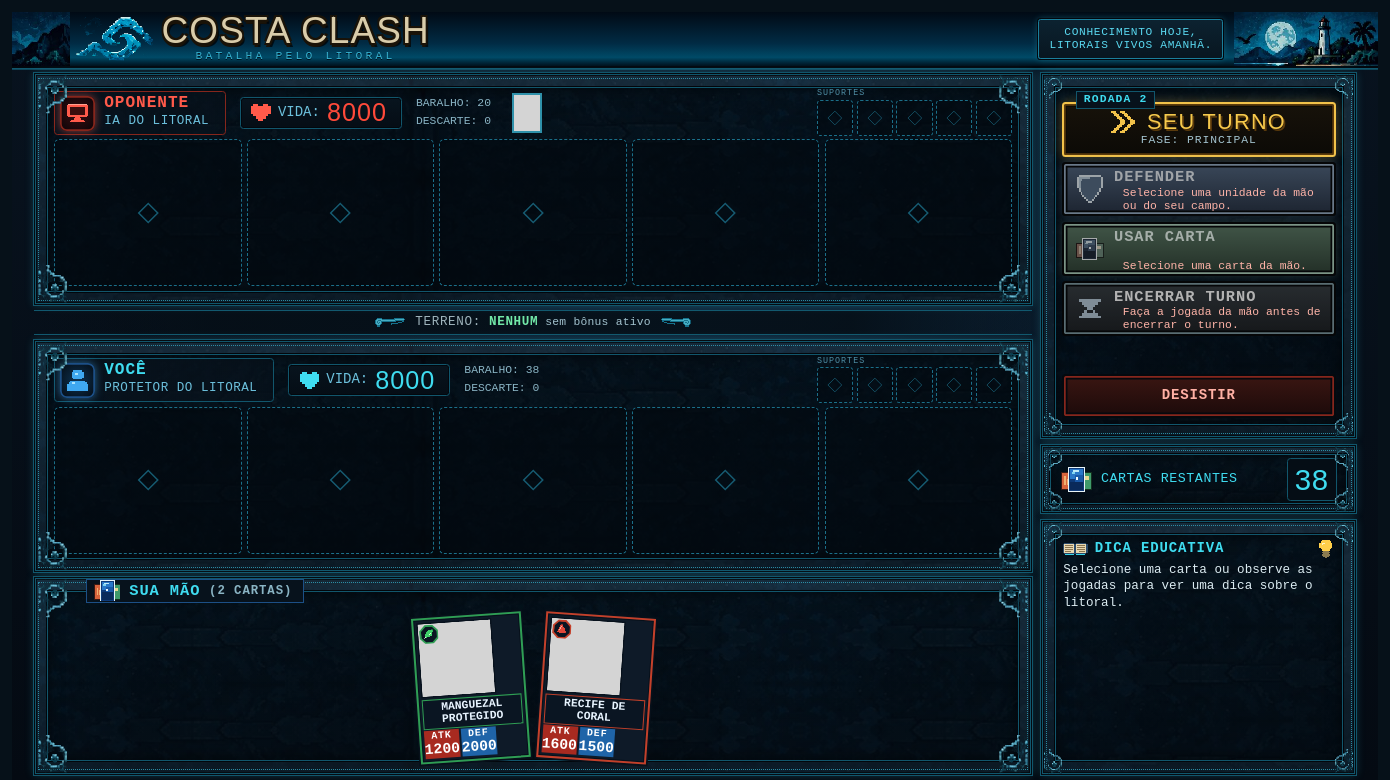
Test: mão em leque e inspeção ampliada › abre somente uma cópia visual no hover, mostra os detalhes completos e fecha ao sair
Hover over the button with aria-label "Mão 1:" at (471, 687), box [411,611,530,764]
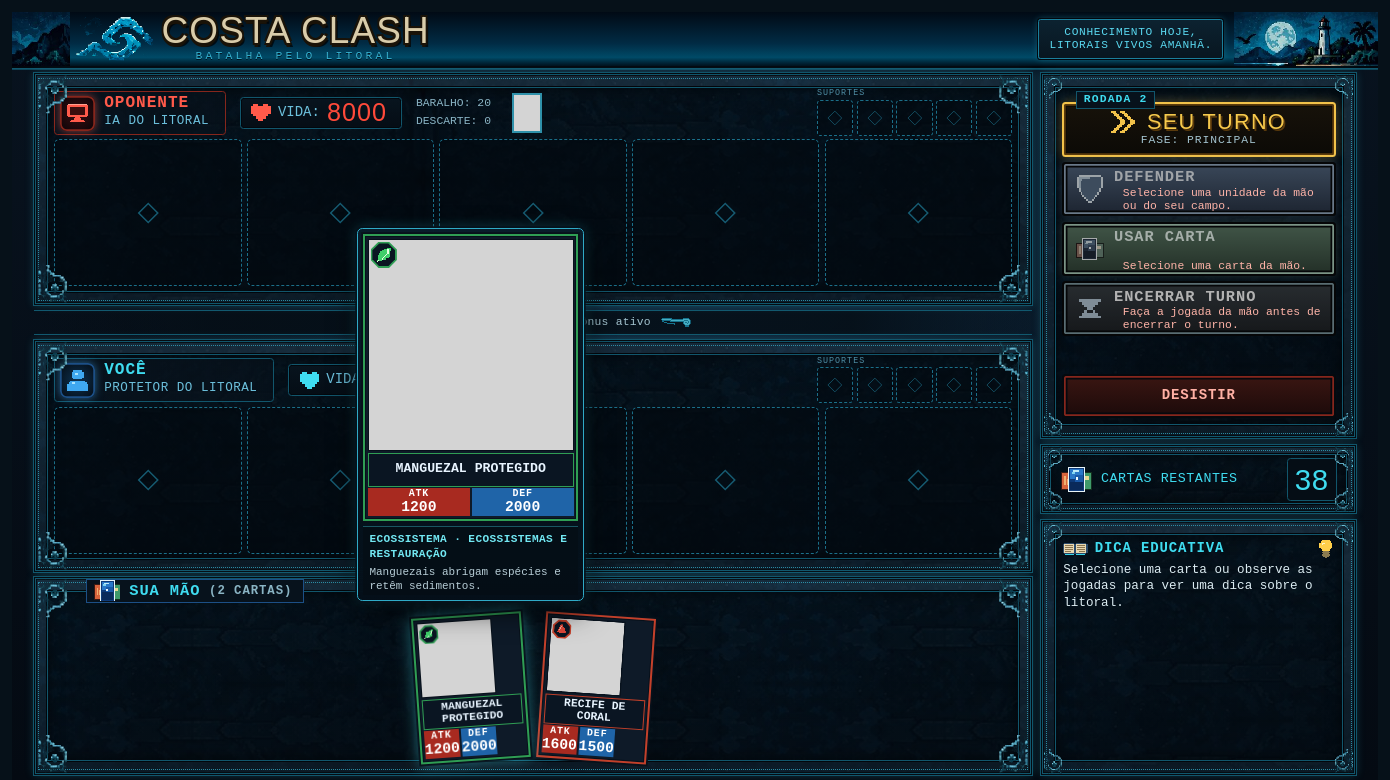
Result: the element with class "duelo-inspecao" shows "Manguezal Protegido" at [396,461,546,476]
Result: the element with class "duelo-inspecao" shows "Manguezais abrigam espécies e retêm sedimentos." at [370,566,561,592]
Move the pointer off the button with aria-label "Mão 1:", box [411,611,530,764]
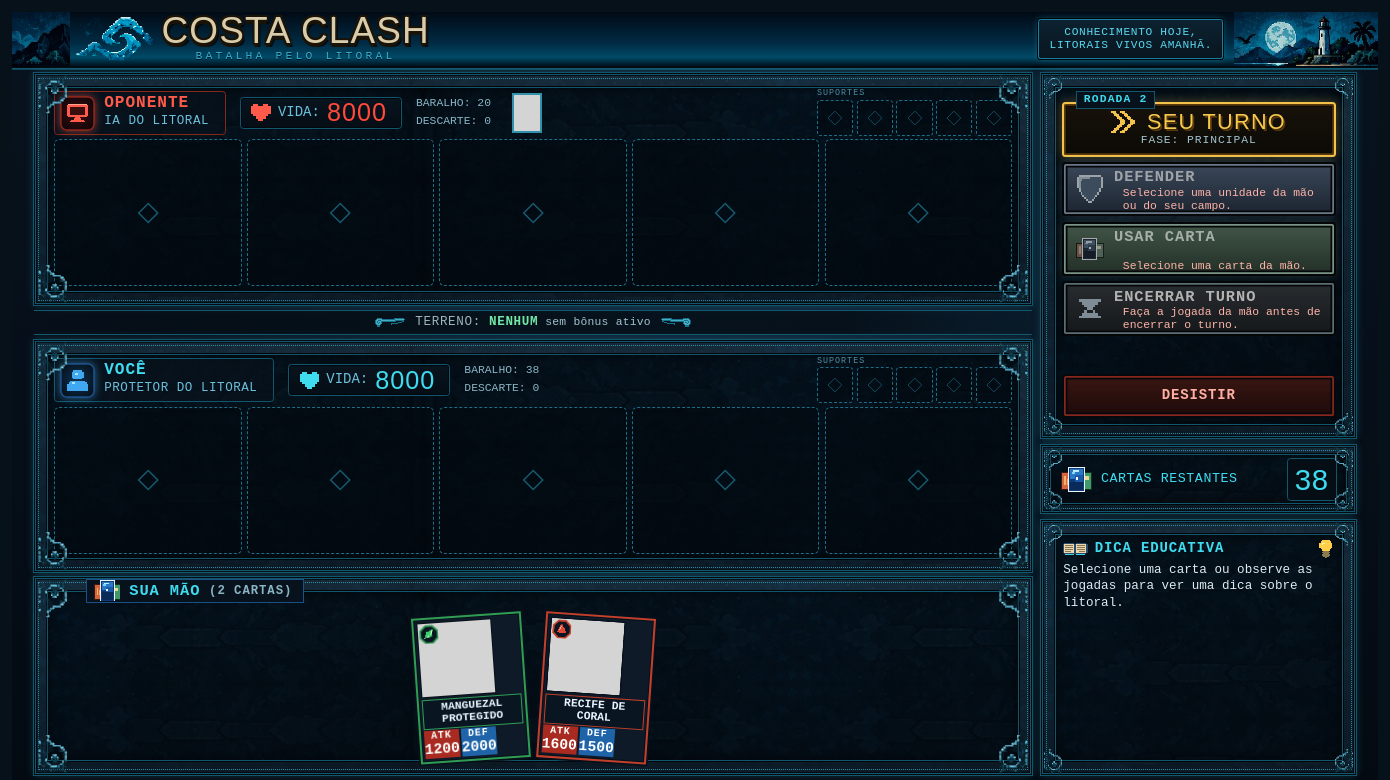
Result: the element with class "duelo-inspecao" is gone
